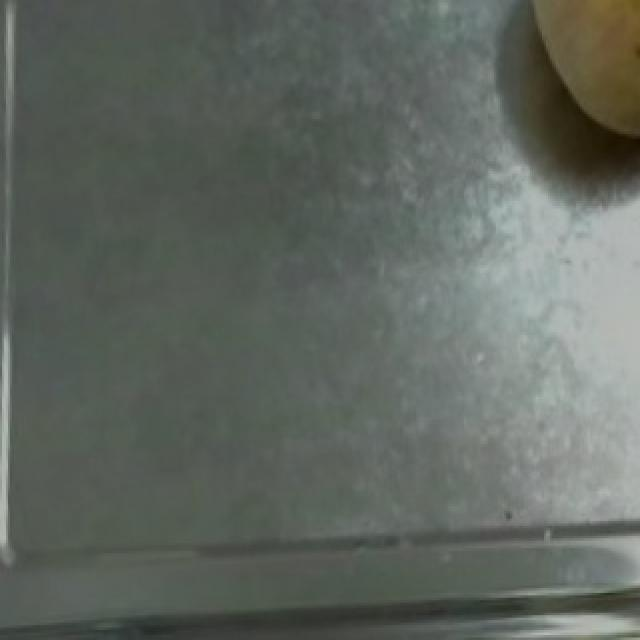Fruit: (492, 0, 640, 169)
